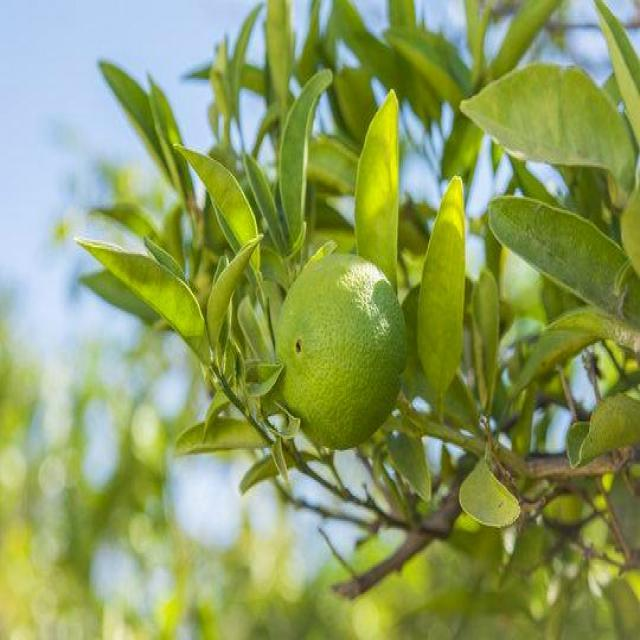Jeruk Belum Matang: (276, 254, 408, 448)
